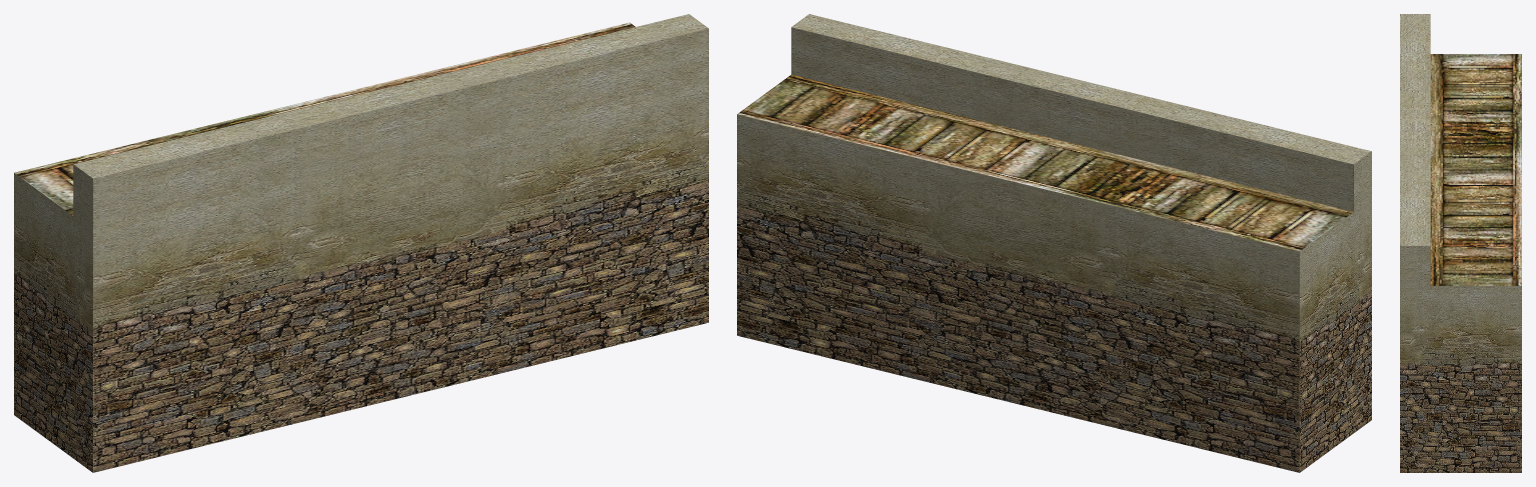
The model's file is iber_wall.dae.
3 renders of one model, left to right at view 1: azimuth 30°, elevation 25°; view 2: azimuth 150°, elevation 25°; view 3: azimuth 270°, elevation 25°, orthographic. The views are drawn at different scales.
Parts seen in each view (by area): view 1: Box01; view 2: Box01; view 3: Box01.
Boxes of the visible parts, x1,y1,x2,y2 form: Box01: (14,14,708,472); Box01: (737,14,1371,472); Box01: (1400,14,1521,472).
Size of the model in its own units: 22.71 by 5.05 by 10.37.
